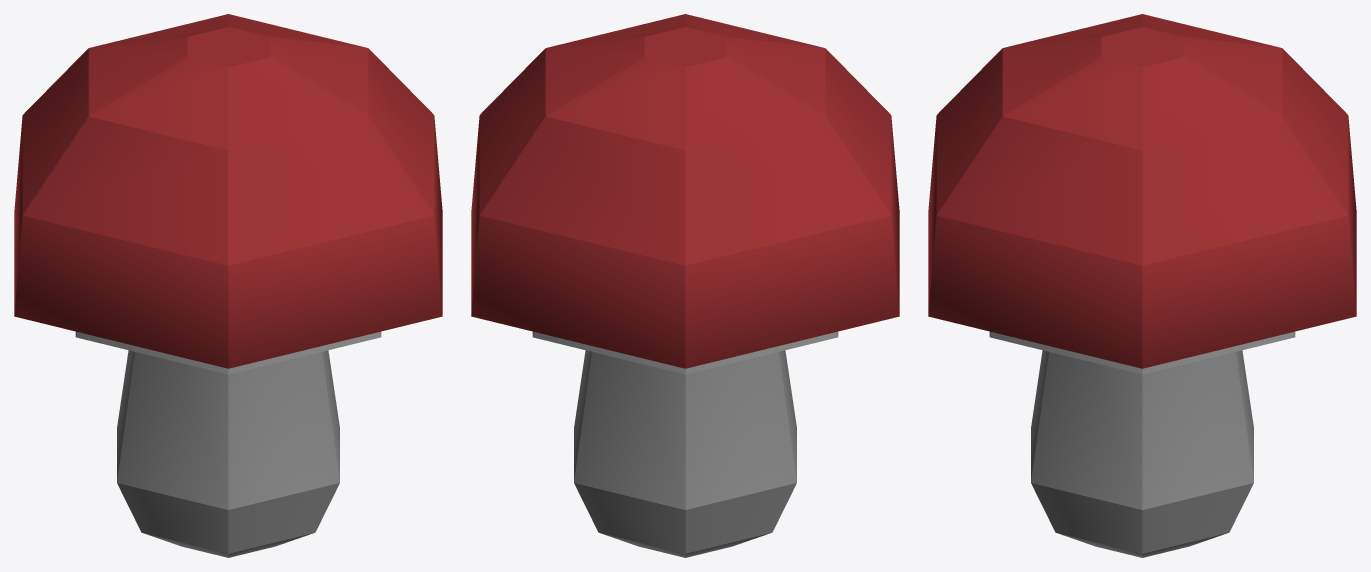
File: Mushroom(1).fbx
The picture shows the model from 3 angles, left to right: view 1: azimuth 30°, elevation 25°; view 2: azimuth 150°, elevation 25°; view 3: azimuth 270°, elevation 25°; orthographic projection.
Parts seen in each view (by area): view 1: Mushroom(1); view 2: Mushroom(1); view 3: Mushroom(1).
Boxes of the visible parts, box(x1,y1,x2,y2) form: Mushroom(1): box(14, 14, 442, 557); Mushroom(1): box(471, 14, 899, 557); Mushroom(1): box(928, 14, 1356, 557).
Size of the model in its own units: 0.1624 by 0.1768 by 0.1407.
